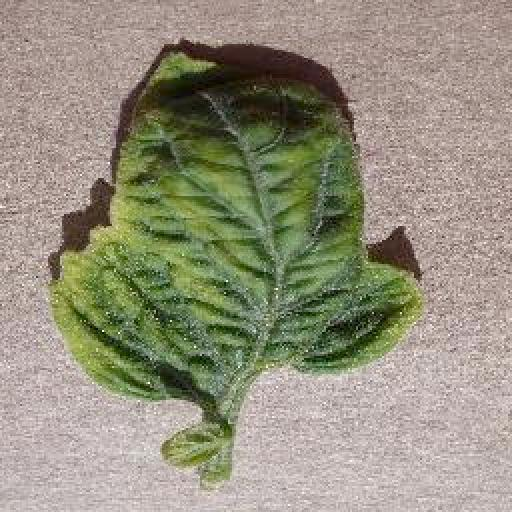disease_tomato: (58, 50, 422, 404)
